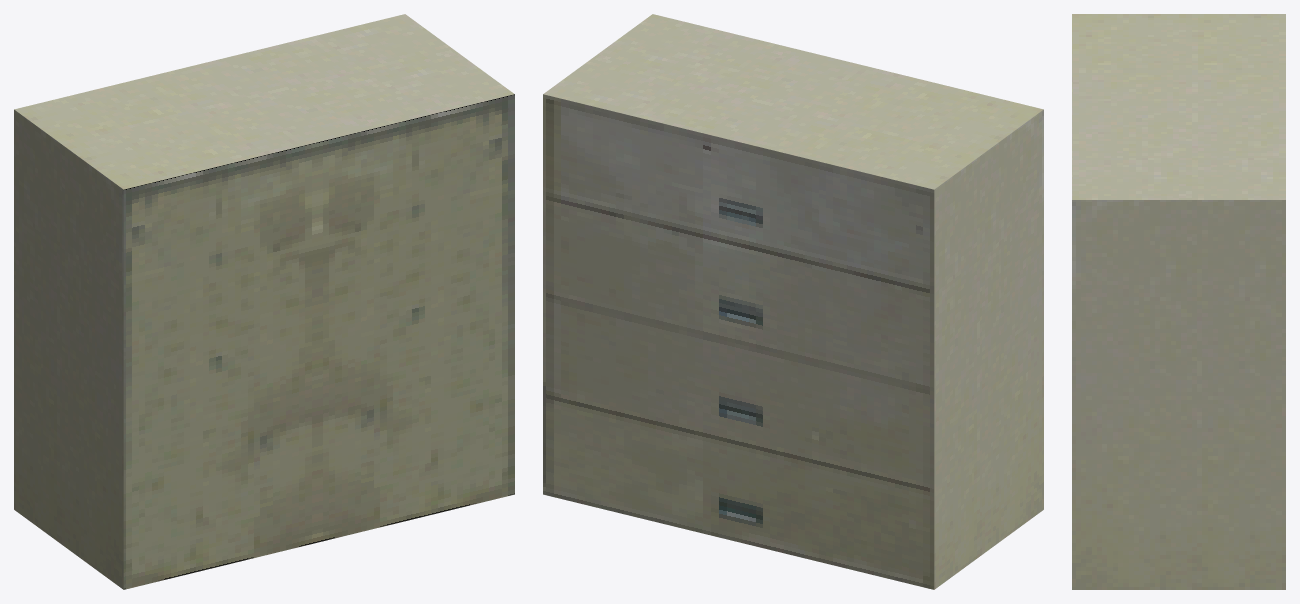
Rendered from file_cabinet_big.glb.
The picture shows the model from 3 angles, left to right: view 1: azimuth 30°, elevation 25°; view 2: azimuth 150°, elevation 25°; view 3: azimuth 270°, elevation 25°; orthographic projection. The views are drawn at different scales.
Parts seen in each view (by area): view 1: file_cabinet_largest; view 2: file_cabinet_largest; view 3: file_cabinet_largest.
Boxes of the visible parts, x1=… form: file_cabinet_largest: x1=14, y1=14, x2=514, y2=589; file_cabinet_largest: x1=543, y1=14, x2=1043, y2=589; file_cabinet_largest: x1=1072, y1=14, x2=1285, y2=589.
Bounding box in the file's own units: 1.44 × 1.41 × 0.6994.
1 material, 1 textured.
